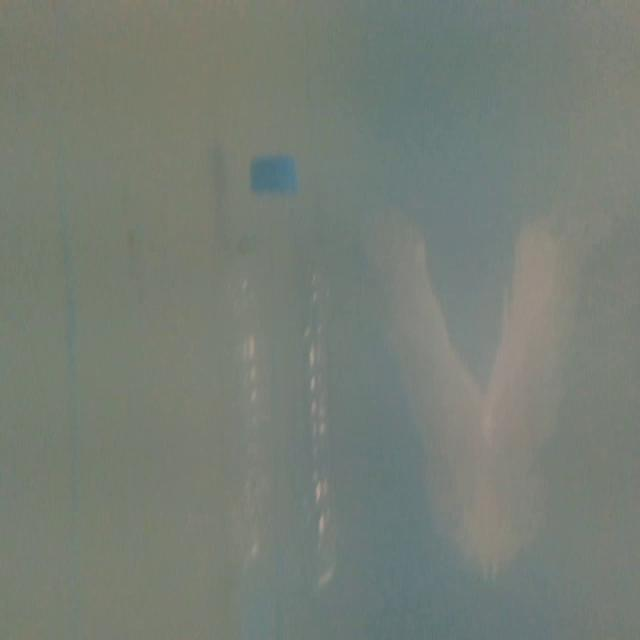plastic bags: (389, 251, 543, 561)
plastic bottle: (231, 150, 354, 610)
